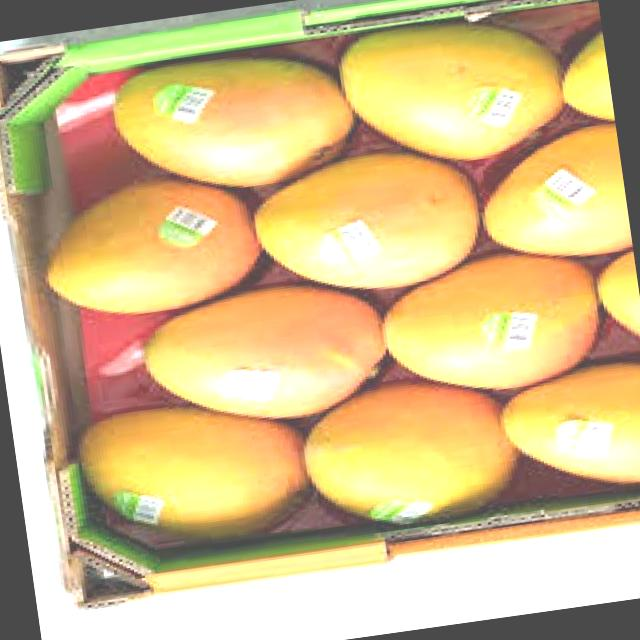Mango: (103, 41, 353, 206), (76, 386, 316, 556), (140, 280, 397, 432), (340, 11, 558, 178), (248, 149, 484, 303), (28, 169, 260, 323), (382, 253, 608, 404), (304, 378, 522, 530), (480, 126, 628, 267), (509, 368, 640, 500)
